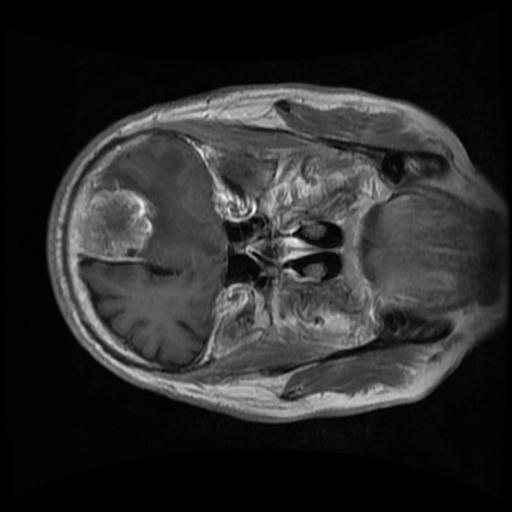meningioma: (80, 188, 157, 263)
